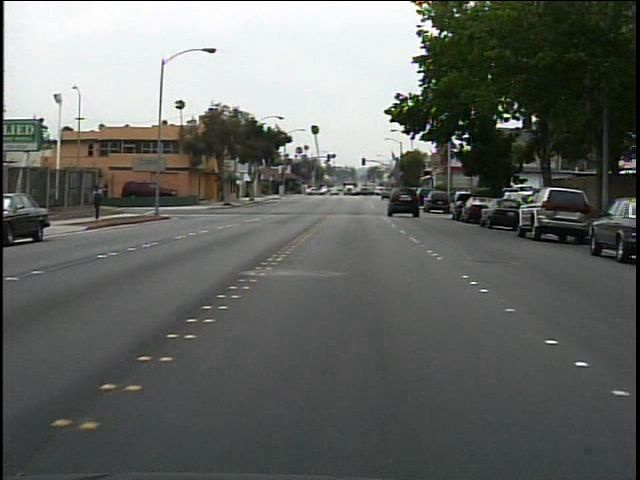person: (90, 179, 113, 224)
